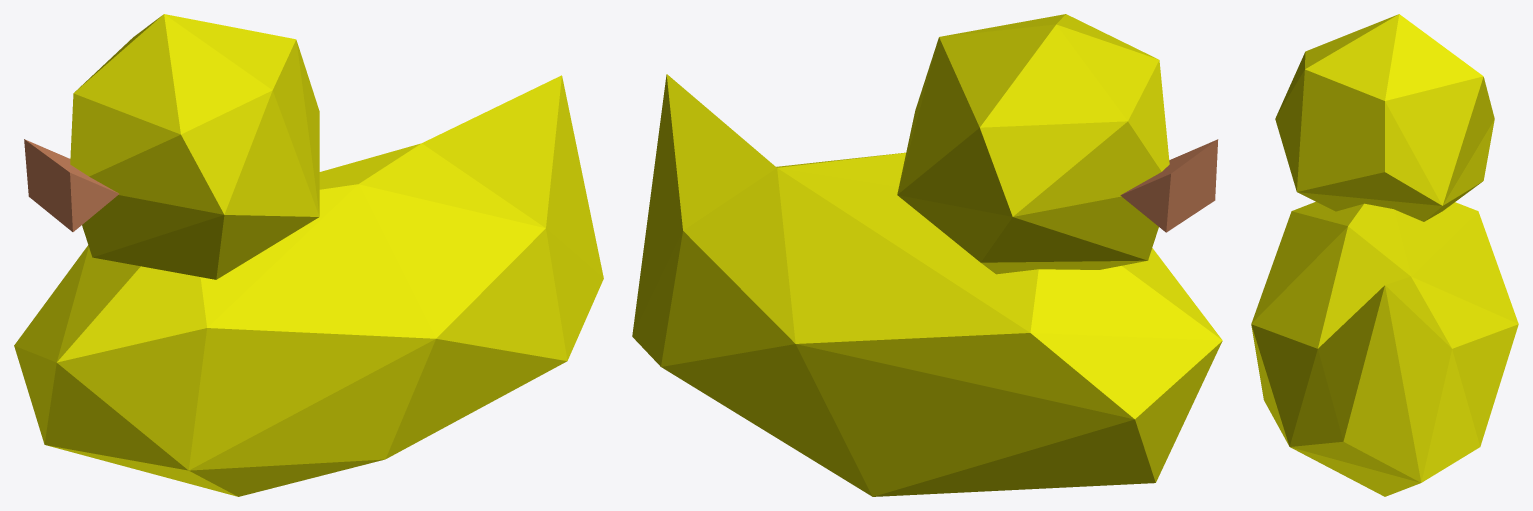
Rendered from Duck.fbx.
The picture shows the model from 3 angles, left to right: view 1: azimuth 30°, elevation 25°; view 2: azimuth 150°, elevation 25°; view 3: azimuth 270°, elevation 25°; orthographic projection. The views are drawn at different scales.
Visible parts, largest first — view 1: Duck, Mouth; view 2: Duck, Mouth; view 3: Duck.
Boxes of the visible parts, bbox=[...] form: Duck: bbox=[14, 14, 603, 496]; Mouth: bbox=[24, 139, 118, 231]; Duck: bbox=[632, 14, 1222, 496]; Mouth: bbox=[1120, 139, 1218, 232]; Duck: bbox=[1251, 14, 1518, 496].
Bounding box in the file's own units: 371 × 305 × 199.
